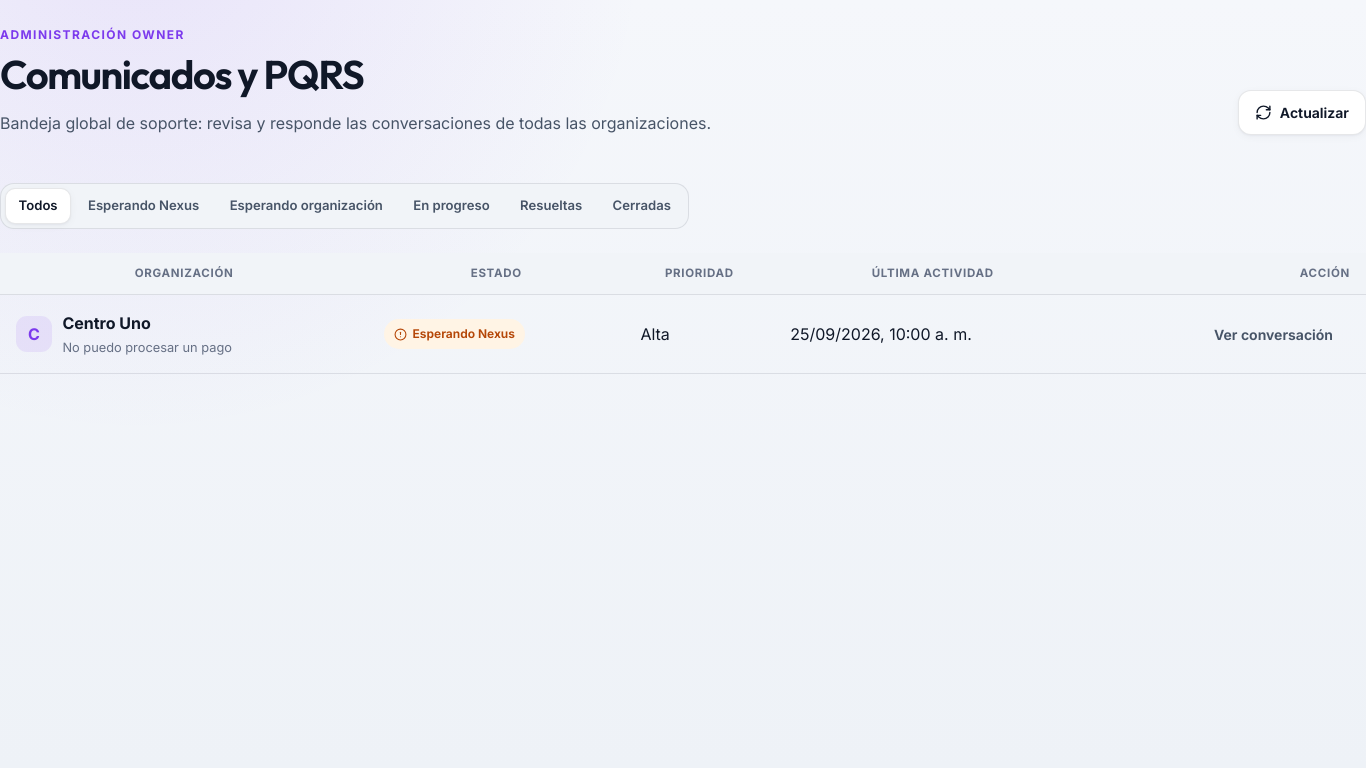
Test: OwnerSupportInbox › does not show the reply box for a closed conversation
Click the button "C Centro Uno No puedo procesar un pago" at (124, 334), box [16, 311, 232, 357]
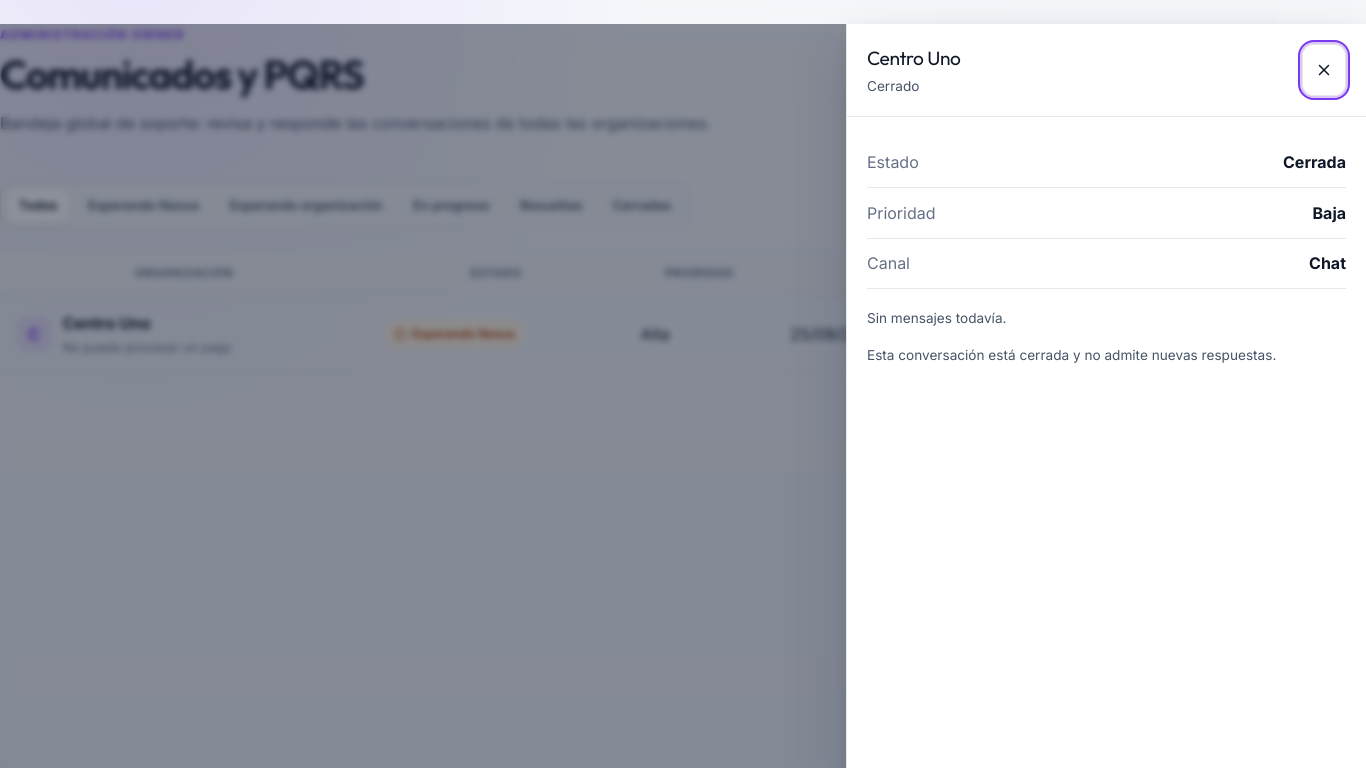
Result: the text "cerrada y no admite nuevas respuestas" is shown at [867, 347, 1276, 363]
